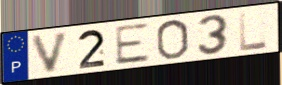2: (77, 28, 107, 70)
3: (195, 13, 231, 56)
E: (113, 21, 153, 67)
L: (238, 9, 270, 53)
O: (155, 18, 191, 61)
V: (30, 29, 73, 75)
